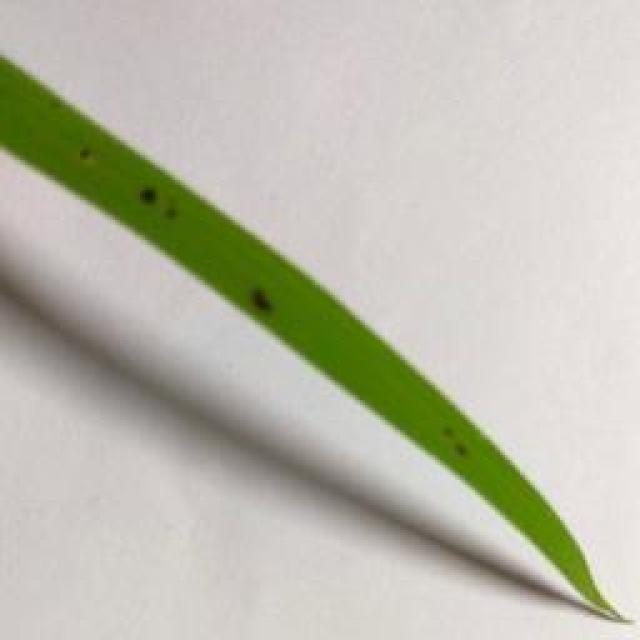Brown_Spot: (227, 261, 293, 332), (131, 180, 168, 214), (450, 427, 474, 475), (157, 195, 184, 236), (71, 142, 102, 172), (433, 420, 457, 439)
